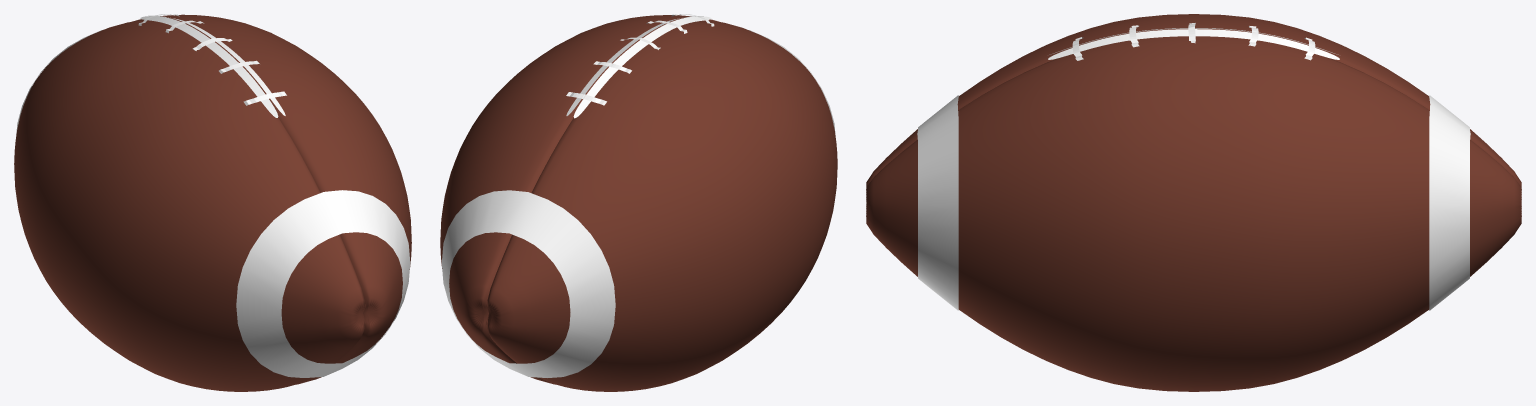
The model's file is EUAsoccerLOW1to1.glb.
3 views of the same model, side by side, from view 1: azimuth 30°, elevation 25°; view 2: azimuth 150°, elevation 25°; view 3: azimuth 270°, elevation 25° (orthographic). The views are drawn at different scales.
Visible parts, largest first — view 1: EUAsoccerV2; view 2: EUAsoccerV2; view 3: EUAsoccerV2.
Boxes of the visible parts, <box> form: EUAsoccerV2: <box>14,14,411,391</box>; EUAsoccerV2: <box>440,14,837,391</box>; EUAsoccerV2: <box>866,14,1521,391</box>.
Bounding box in the file's own units: 0.3613 × 0.3672 × 0.6295.
